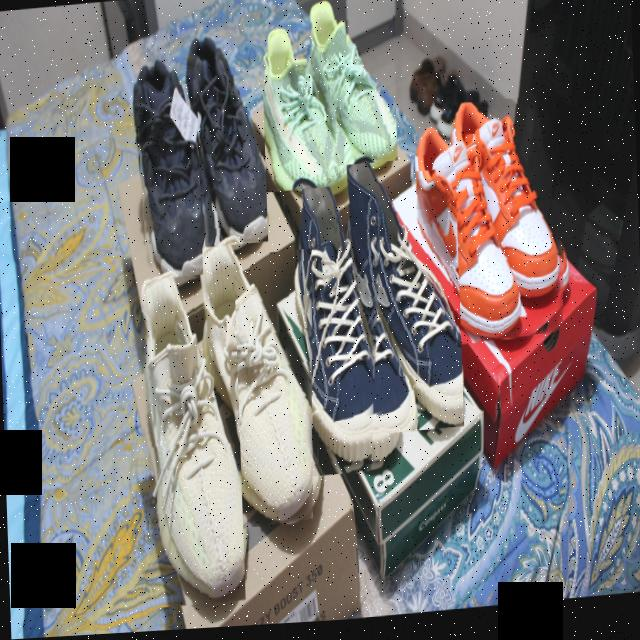shoe: (412, 100, 574, 355), (136, 272, 245, 611), (201, 251, 321, 537), (352, 172, 464, 441), (294, 198, 391, 481), (188, 49, 268, 250), (306, 5, 397, 172), (133, 65, 203, 282), (259, 45, 344, 196)
